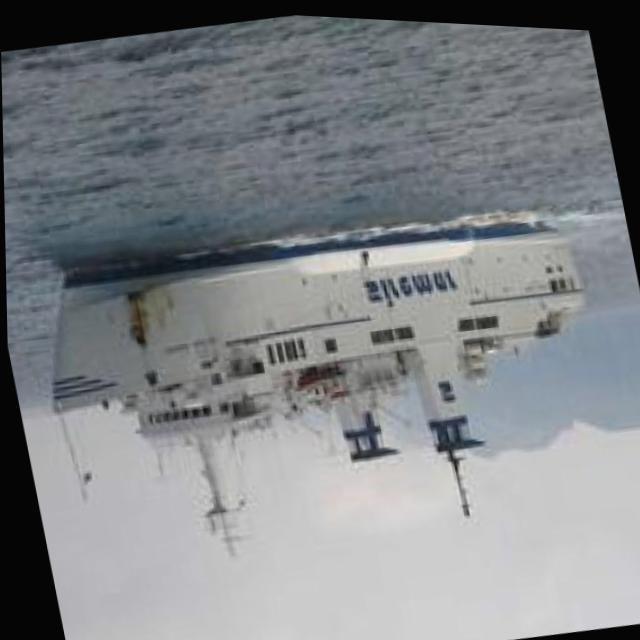ship2: (50, 213, 589, 557)
